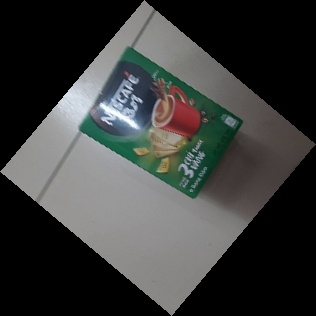Nes Rang: (75, 47, 243, 199)
